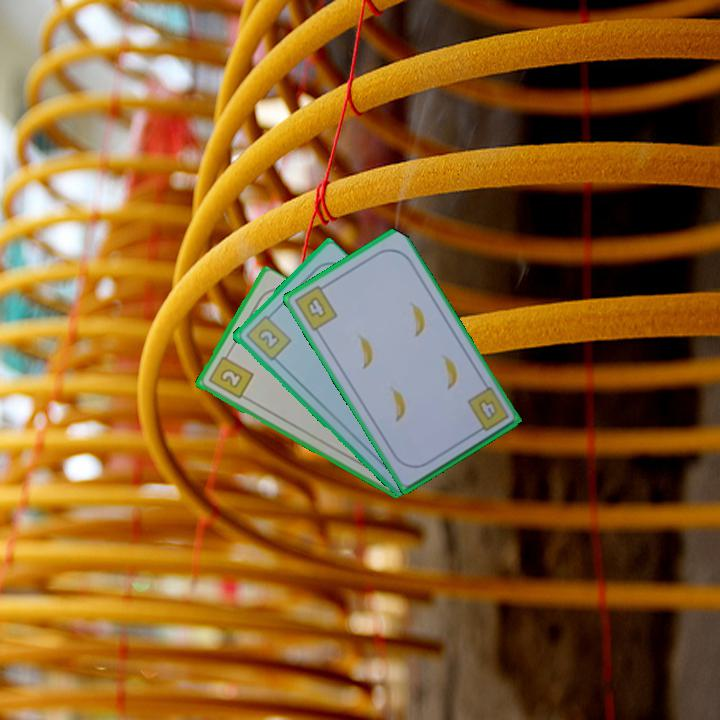2b: (204, 348, 256, 402), (242, 309, 294, 363)
4b: (291, 280, 340, 334), (463, 383, 512, 437)
